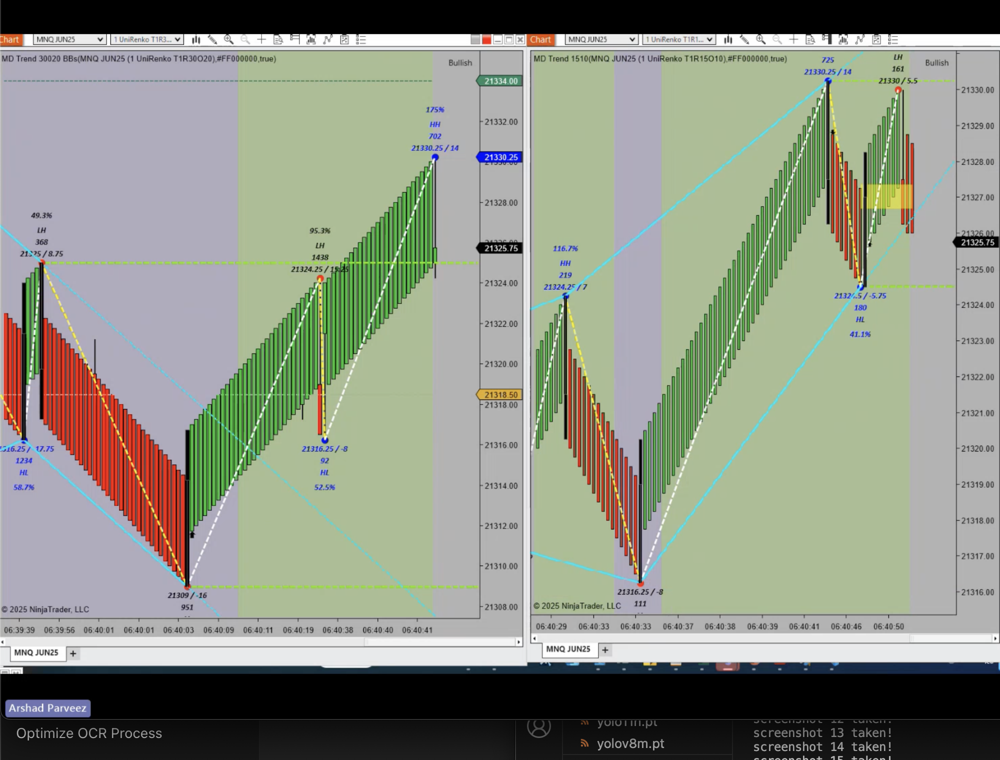HH: (424, 118, 449, 133), (556, 256, 576, 271)
HL: (851, 310, 870, 327), (315, 464, 334, 480), (14, 465, 33, 480)
LH: (31, 218, 50, 238), (888, 49, 911, 64), (311, 238, 329, 253)
